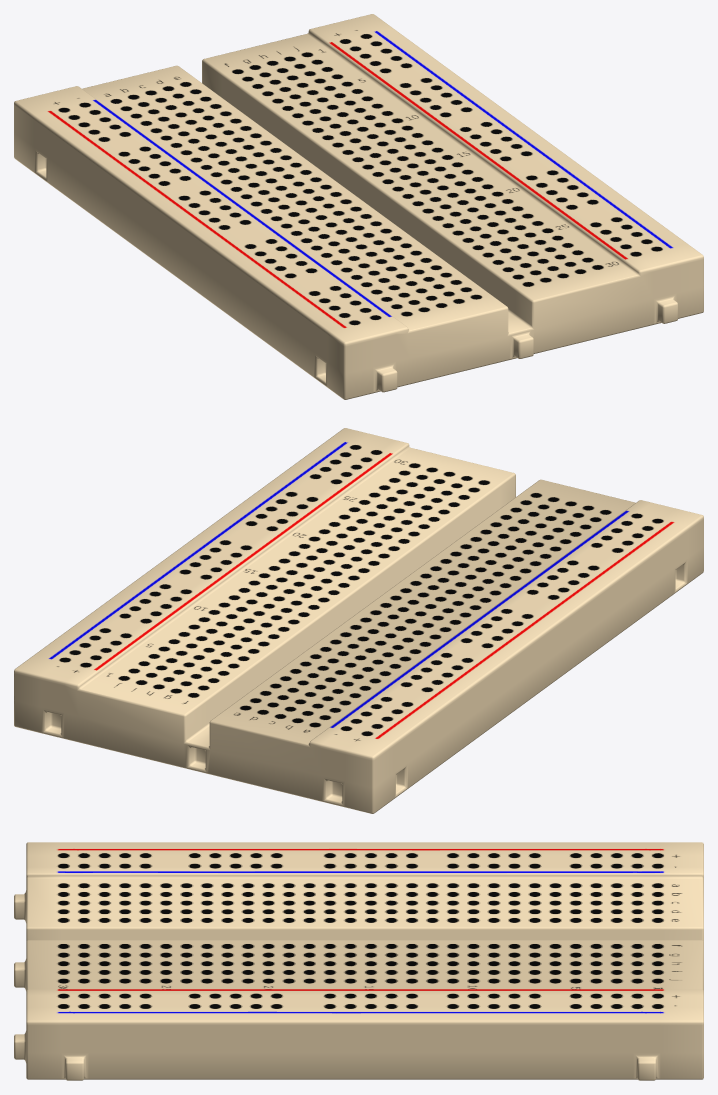
File: Breadboard.glb
The picture shows the model from 3 angles, top to bottom: view 1: azimuth 30°, elevation 25°; view 2: azimuth 150°, elevation 25°; view 3: azimuth 270°, elevation 25°; orthographic projection. The views are drawn at different scales.
Visible parts, largest first — view 1: Breadbox; view 2: Breadbox; view 3: Breadbox.
Part boxes in pixels (bbox=[...]): Breadbox: bbox=[14, 14, 703, 399]; Breadbox: bbox=[14, 428, 703, 813]; Breadbox: bbox=[14, 842, 703, 1080].
Size of the model in its own units: 0.0542 by 0.0081 by 0.0854.
Materials: 1 (1 with a texture image).
